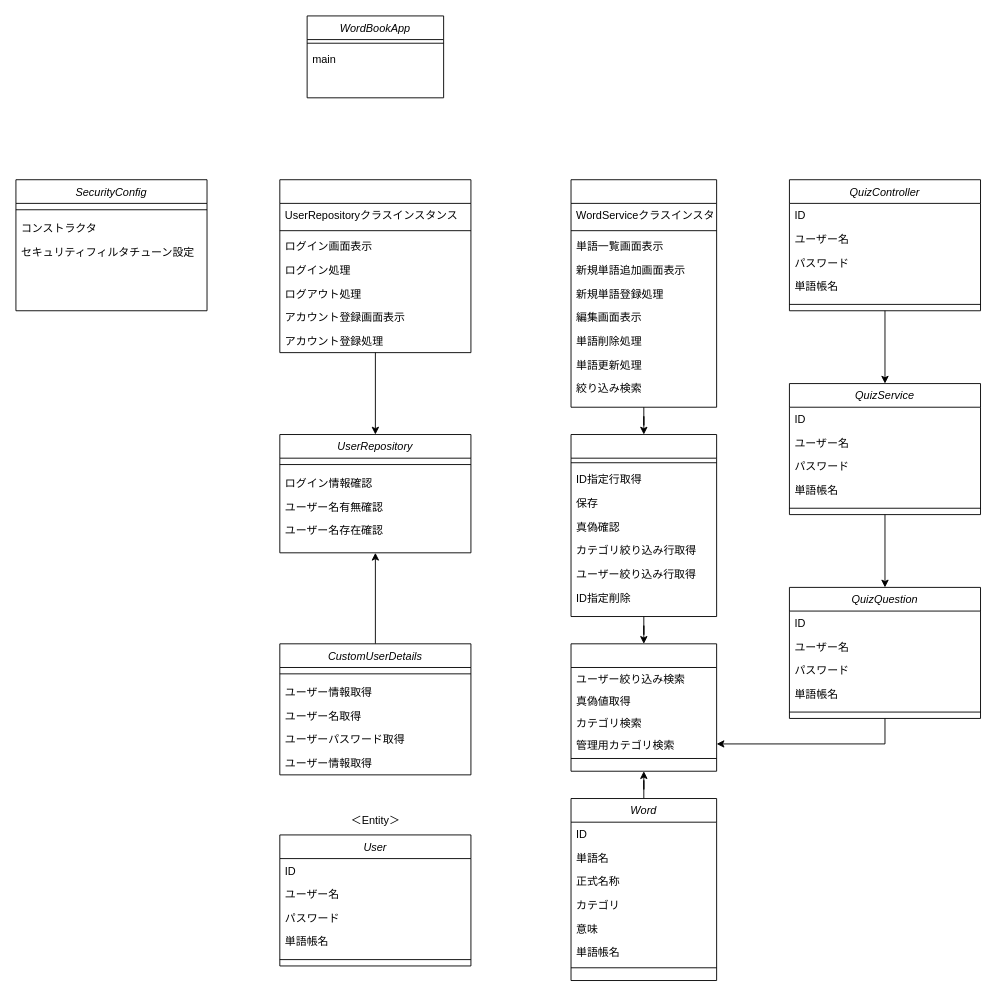
The diagram is 996 pixels wide and 996 high, and some of its shapes have lost their labels. The box of each missing label's shape, as (x1, y1, x2, y2) in pixels:
UserController: (279, 179, 471, 353)
WordContorller: (570, 179, 717, 407)
WordRepository: (570, 643, 717, 771)
WordService: (570, 434, 717, 617)
